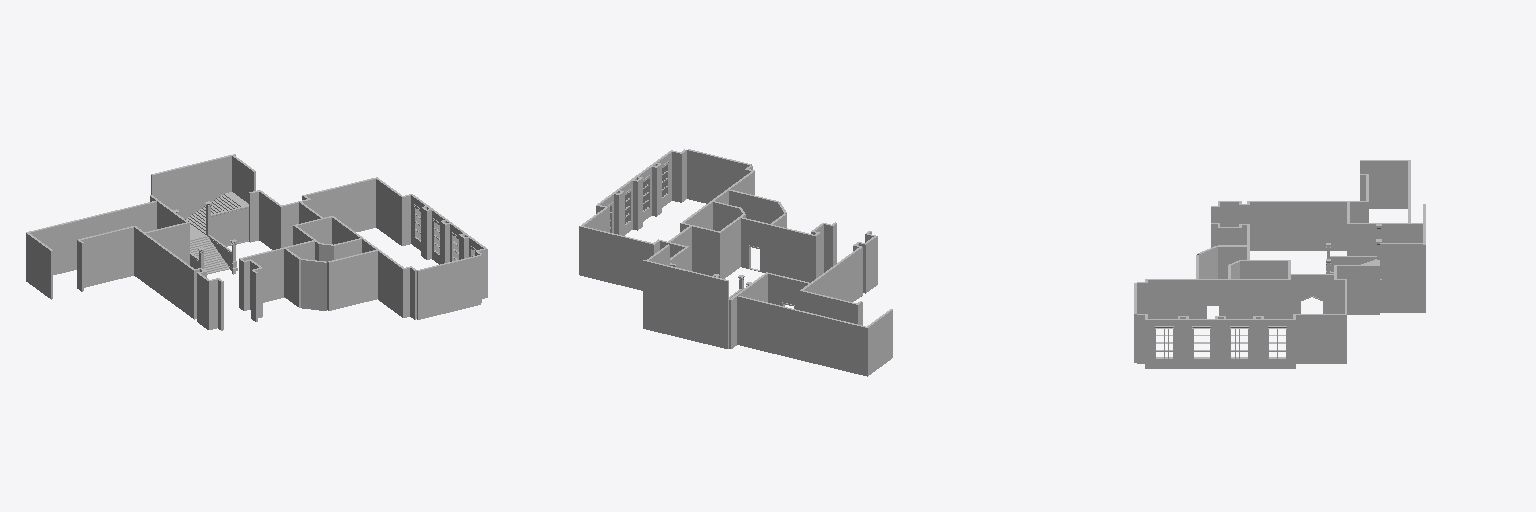
File: restoffloor_blockout.obj
3 views of the same model, side by side, from view 1: azimuth 30°, elevation 25°; view 2: azimuth 150°, elevation 25°; view 3: azimuth 270°, elevation 25° (orthographic).
Visible parts, largest first — view 1: polySurface11720; view 2: polySurface11720; view 3: polySurface11720.
Part boxes in pixels (left/top/right/bottom): polySurface11720: left=26, top=154, right=487, bottom=330; polySurface11720: left=579, top=149, right=892, bottom=376; polySurface11720: left=1134, top=160, right=1425, bottom=368.
Size of the model in its own units: 35.23 by 7.35 by 26.96.